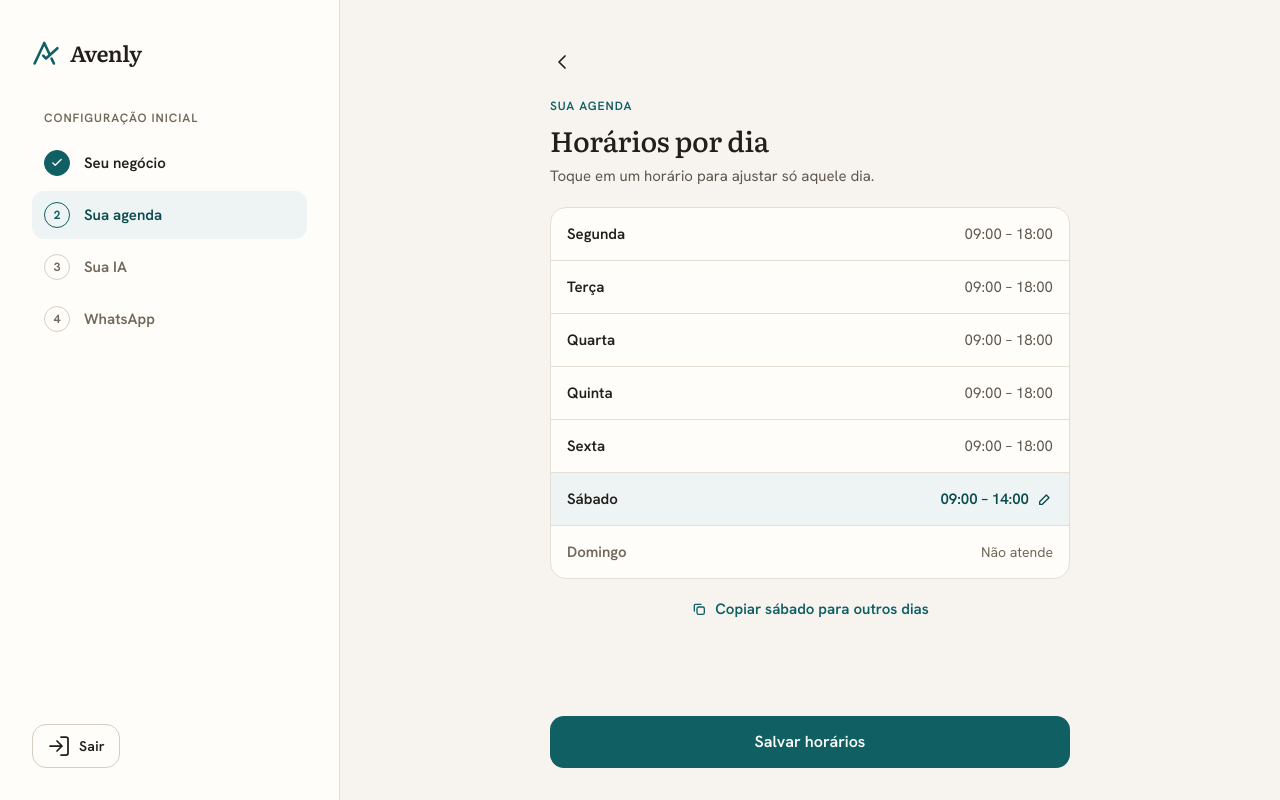
Test: ajustar um dia › tocar a linha abre só os campos daquele dia, um dia por vez
The image size is (1280, 800).
Expected: the heading "Horários por dia" is shown, x1=550 y1=119 x2=769 y2=161
Expected: the field labelled "Sábado · Início" is not shown
Step 1. Click the button "Sábado 09:00 – 14:00" → coordinates (592, 499), box x1=551 y1=473 x2=1069 y2=525
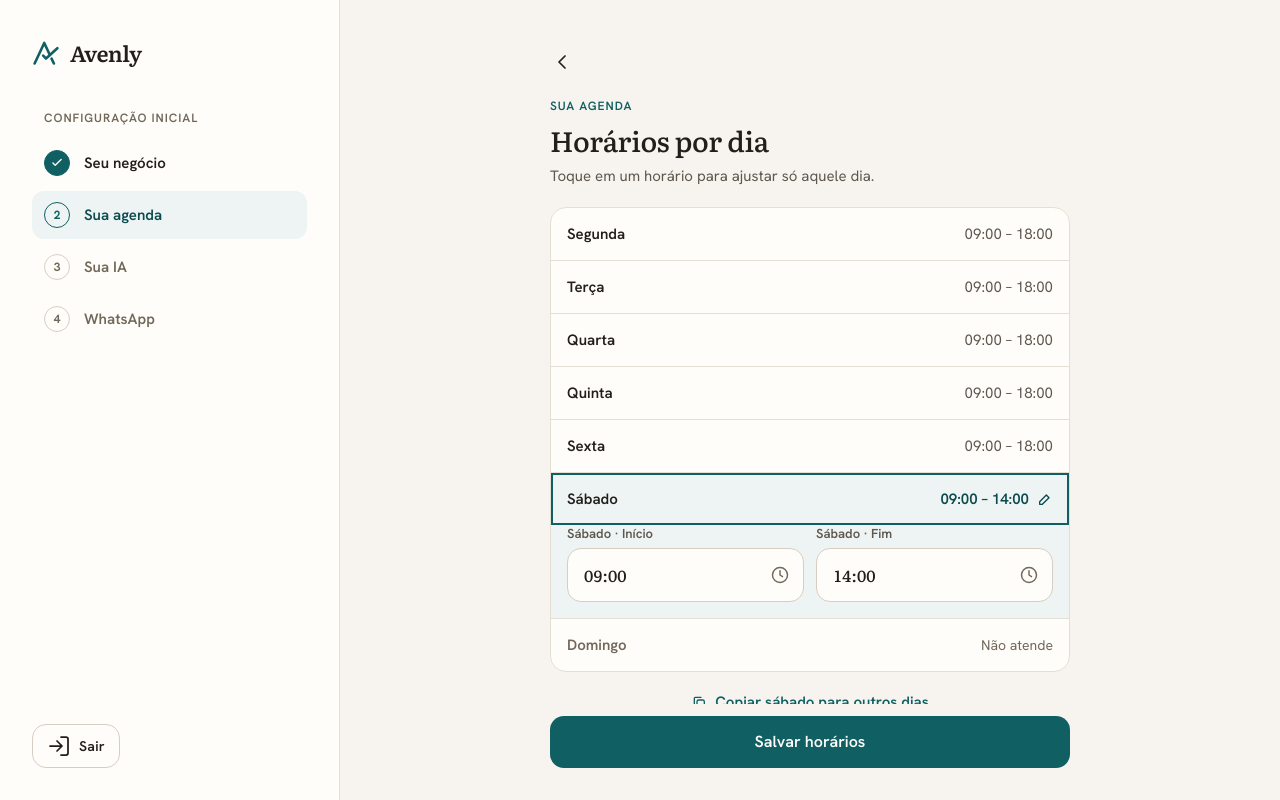
Expected: the field labelled "Sexta · Início" is not shown
Result: the field labelled "Sábado · Início" holds "09:00" at x1=567 y1=548 x2=804 y2=602
Result: the field labelled "Sábado · Fim" holds "14:00" at x1=816 y1=548 x2=1053 y2=602
Step 2. Click the button "Sexta 09:00 – 18:00" → coordinates (586, 446), box x1=551 y1=420 x2=1069 y2=472
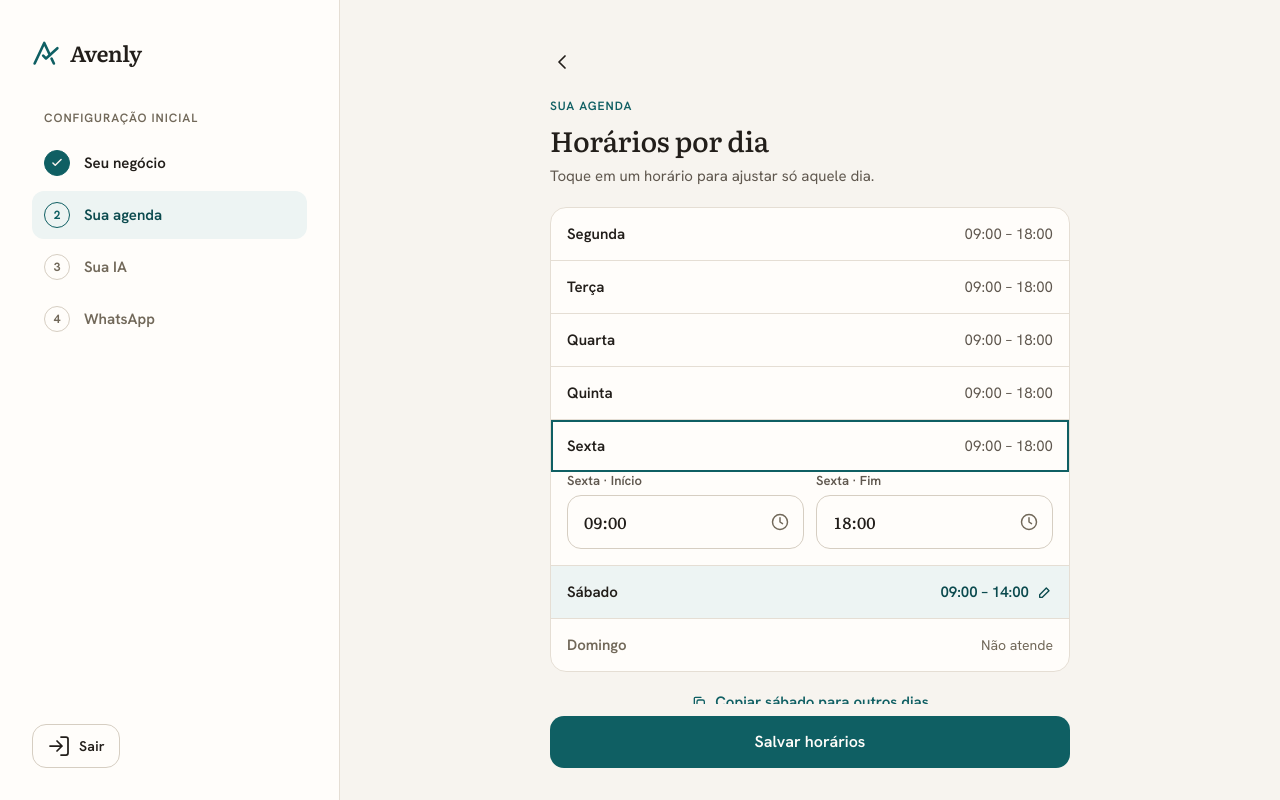
Result: the field labelled "Sexta · Início" holds "09:00" at x1=567 y1=495 x2=804 y2=549
Result: the field labelled "Sexta · Fim" holds "18:00" at x1=816 y1=495 x2=1053 y2=549
Result: the label labelled "Sábado · Início" is gone
Step 3. Click the button "Sexta 09:00 – 18:00" → coordinates (586, 446), box x1=551 y1=420 x2=1069 y2=472
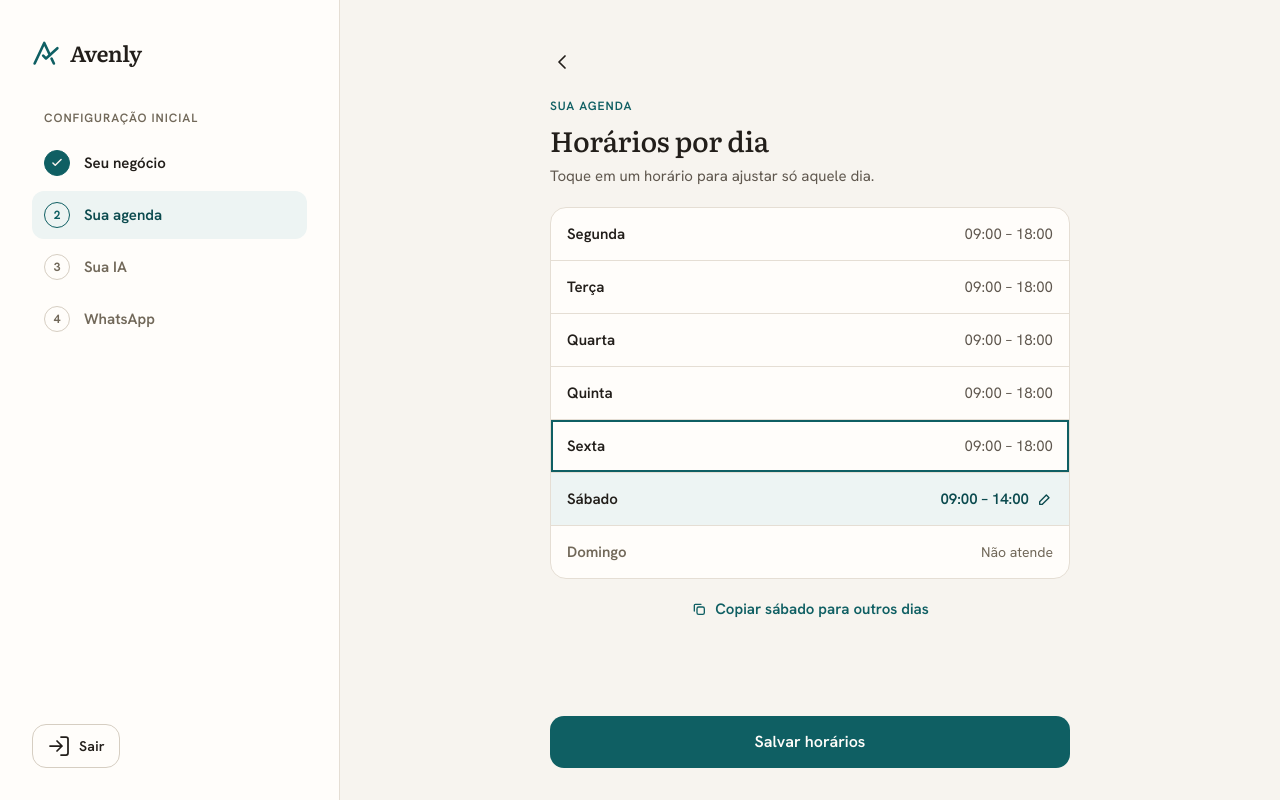
Result: the label labelled "Sexta · Início" is gone
